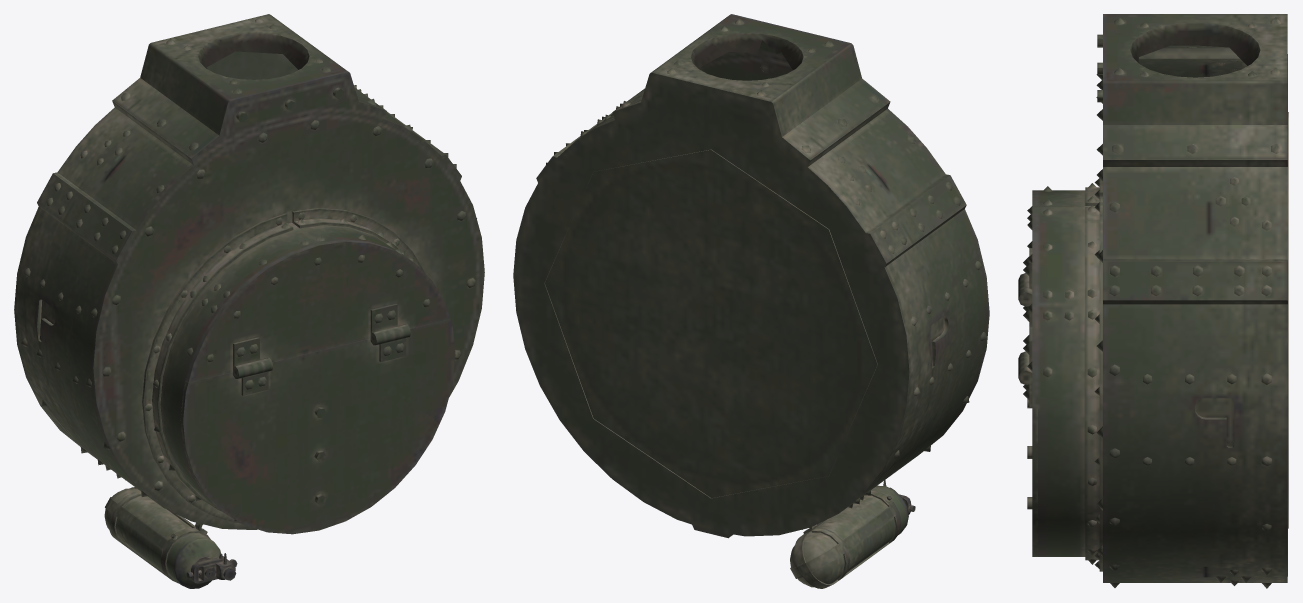
The model's file is Turret_01.glb.
The picture shows the model from 3 angles, left to right: view 1: azimuth 30°, elevation 25°; view 2: azimuth 150°, elevation 25°; view 3: azimuth 270°, elevation 25°; orthographic projection. The views are drawn at different scales.
Visible parts, largest first — view 1: set_0_group_0; view 2: set_0_group_0; view 3: set_0_group_0.
Boxes of the visible parts, x1,y1,x2,y2 form: set_0_group_0: (14, 14, 484, 588); set_0_group_0: (513, 14, 989, 588); set_0_group_0: (1018, 14, 1288, 588).
Bounding box in the file's own units: 1.16 × 1.35 × 0.5851.
1 material, 1 textured.
